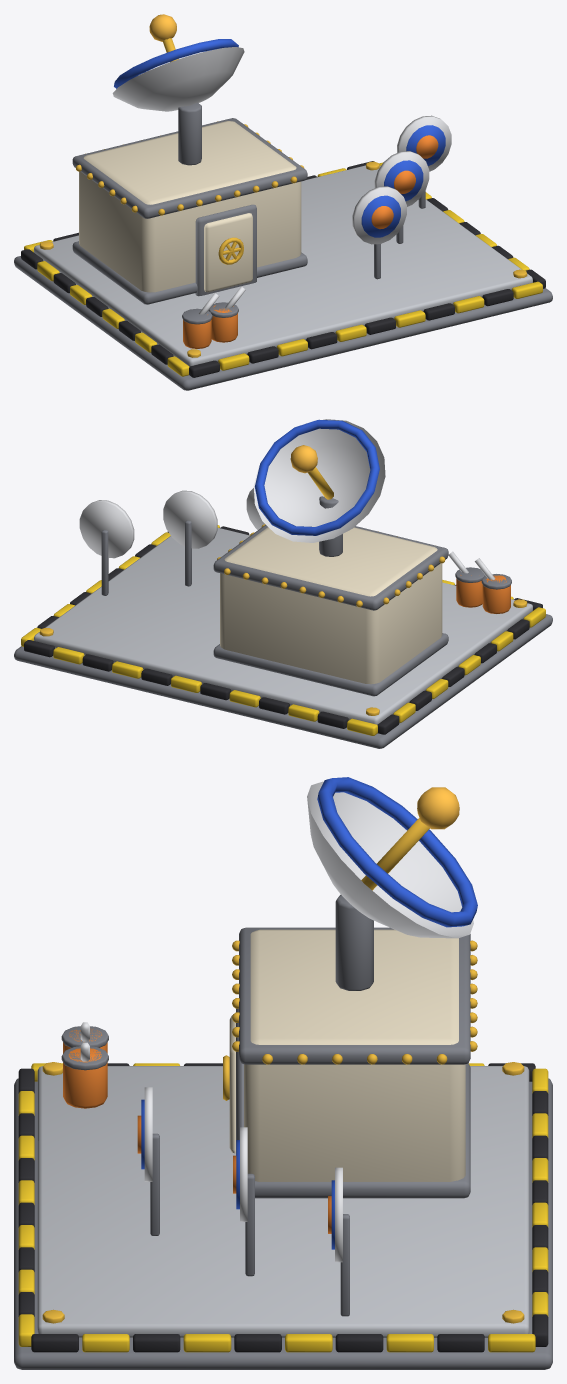
The model's file is ArcheryRange.glb.
3 views of the same model, one above another, from view 1: azimuth 30°, elevation 25°; view 2: azimuth 150°, elevation 25°; view 3: azimuth 270°, elevation 25° (orthographic). The views are drawn at different scales.
Parts seen in each view (by area): view 1: ArcheryRange; view 2: ArcheryRange; view 3: ArcheryRange.
Boxes of the visible parts, x1,y1,x2,y2 form: ArcheryRange: (14,14,552,390); ArcheryRange: (14,419,552,748); ArcheryRange: (14,777,552,1369).
Bounding box in the file's own units: 4.2 × 2.71 × 3.4.
